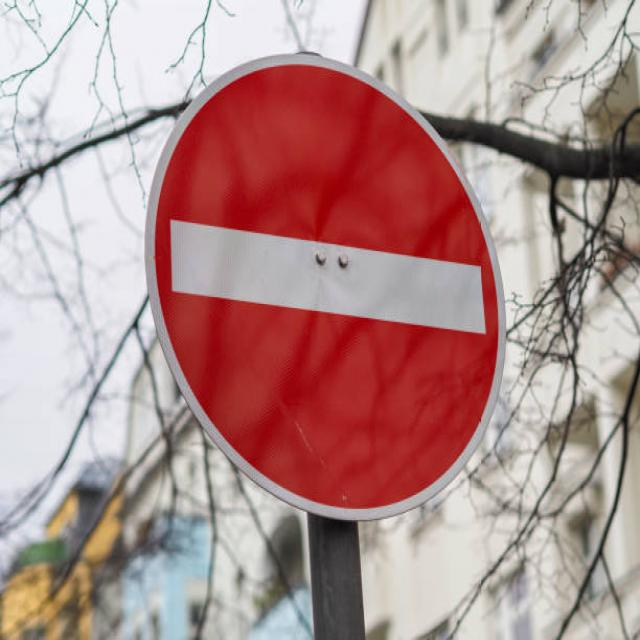do_not_enter: (139, 41, 530, 530)
